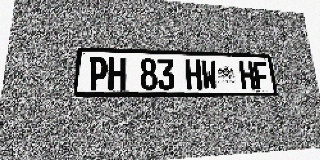3: (157, 59, 175, 90)
8: (140, 58, 158, 90)
F: (253, 61, 270, 90)
H: (108, 57, 126, 90), (185, 59, 202, 90), (239, 61, 256, 90)
P: (88, 57, 108, 90)
W: (201, 60, 218, 90)
